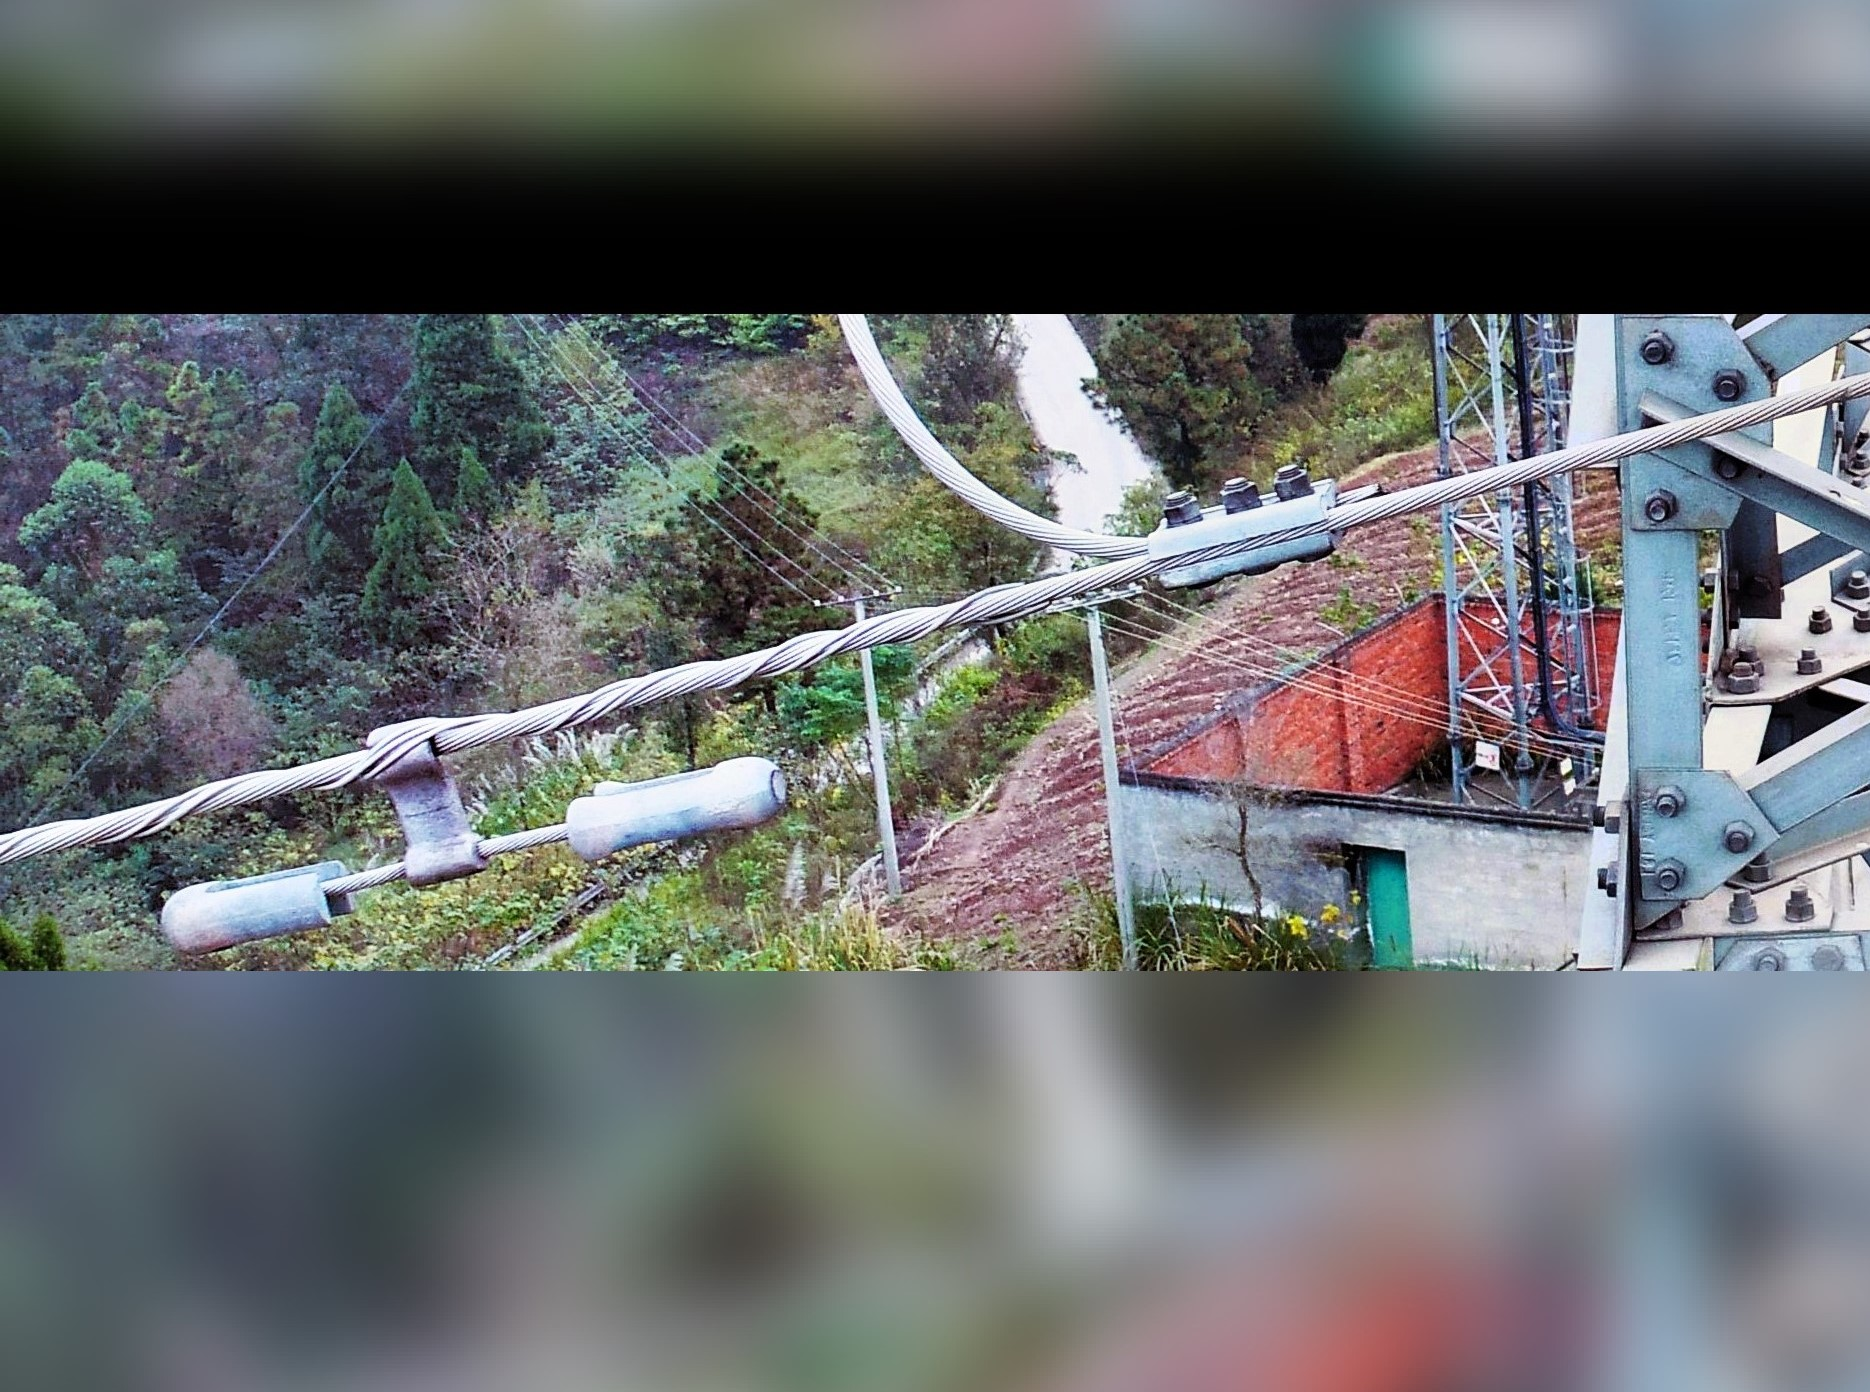Shockproof hammer: (142, 668, 795, 956)
